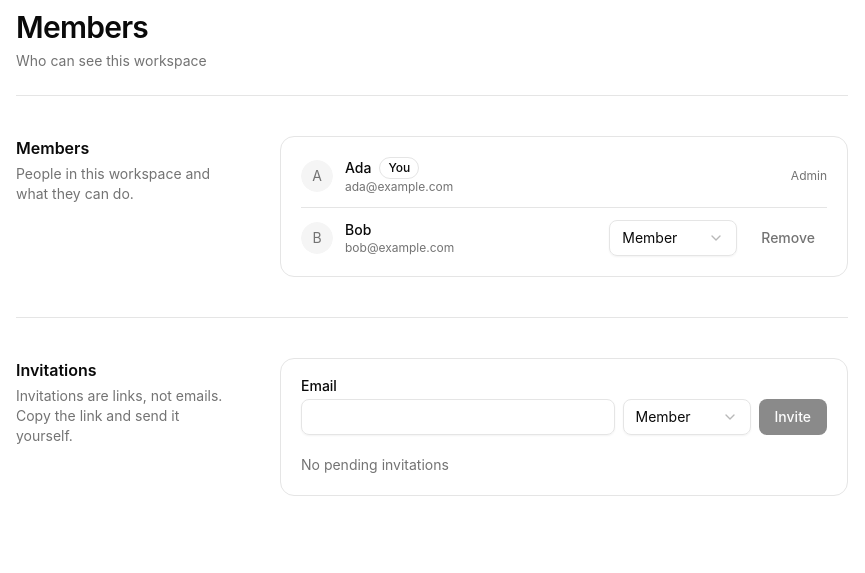
Test: WorkspaceMembersPageClient › creates an invitation and shows the link
This screenshot has width=865, height=573.
Type "carol@example.com" into the field labelled "Email".
click(458, 417); type("carol@example.com")  # box x1=301 y1=399 x2=614 y2=435
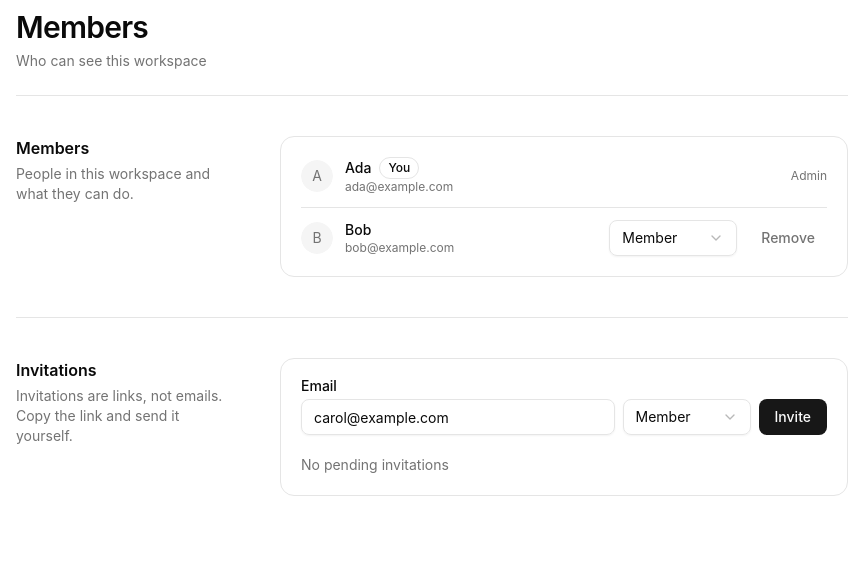
Click the button "Invite".
click(793, 417)  # box x1=758 y1=399 x2=827 y2=435
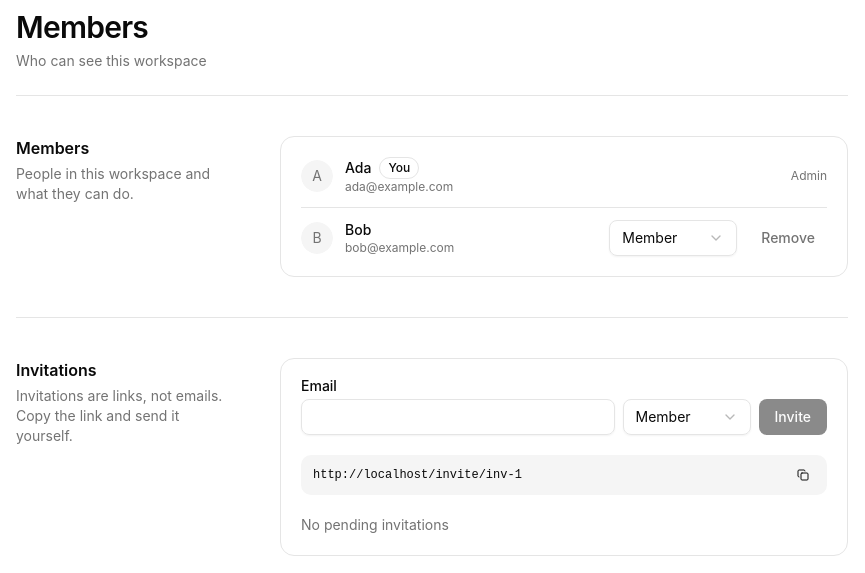
Expected: the text "http://localhost/invite/inv-1" is shown, x1=313 y1=468 x2=522 y2=482
